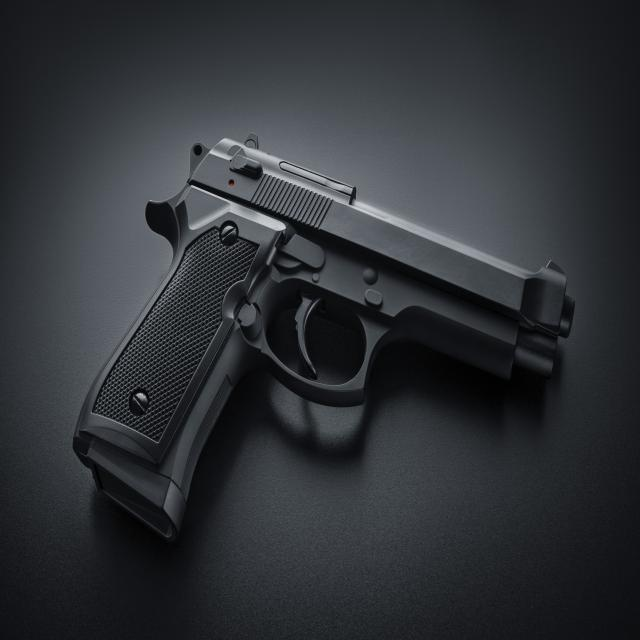HandGun: (71, 136, 576, 545)
